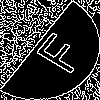F: (25, 25, 89, 77)
